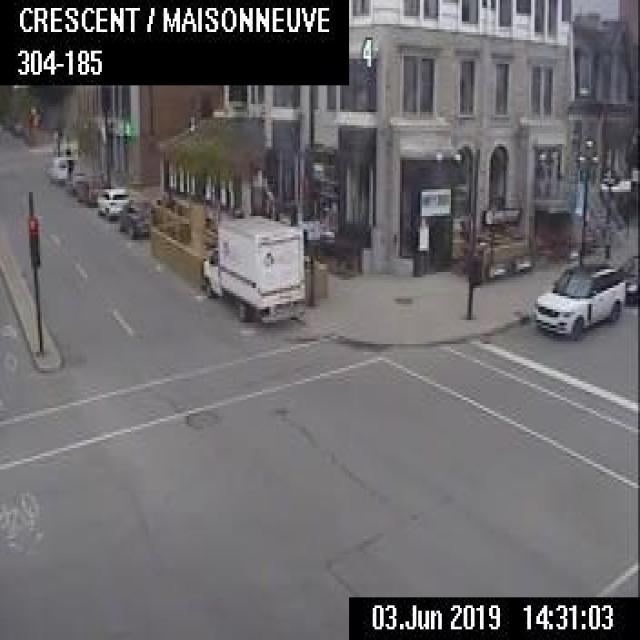vehicle: (198, 208, 304, 328), (533, 258, 624, 339), (117, 198, 152, 237), (617, 250, 638, 301), (96, 185, 129, 215), (48, 154, 74, 179), (67, 166, 88, 189)
